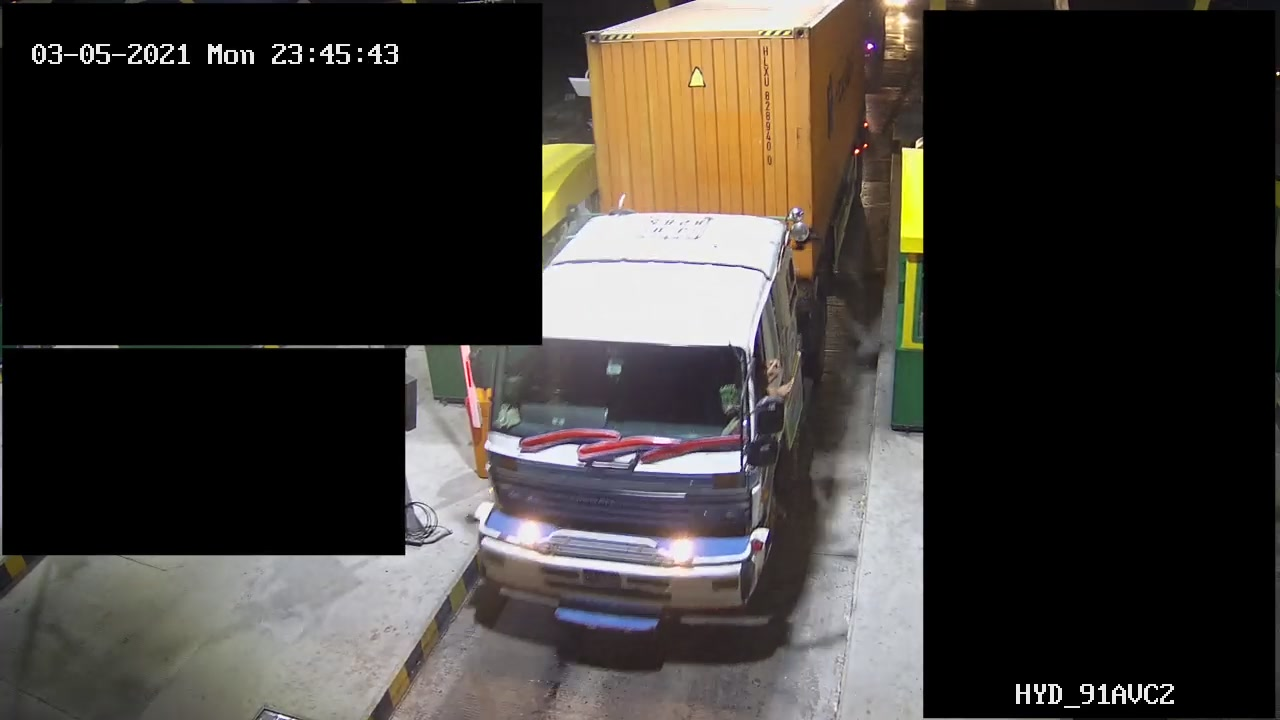F6: (469, 1, 881, 652)
